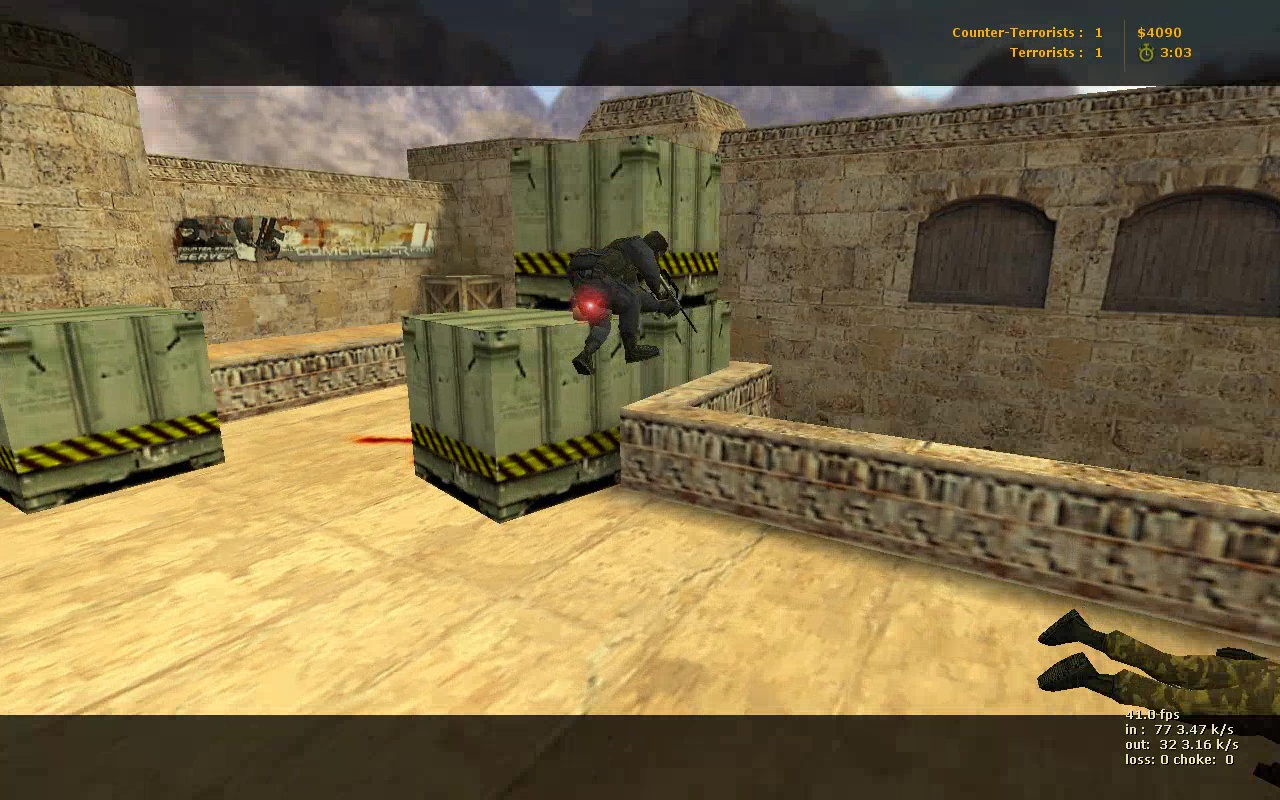ct: (566, 231, 678, 376)
dead: (1028, 605, 1280, 771)
